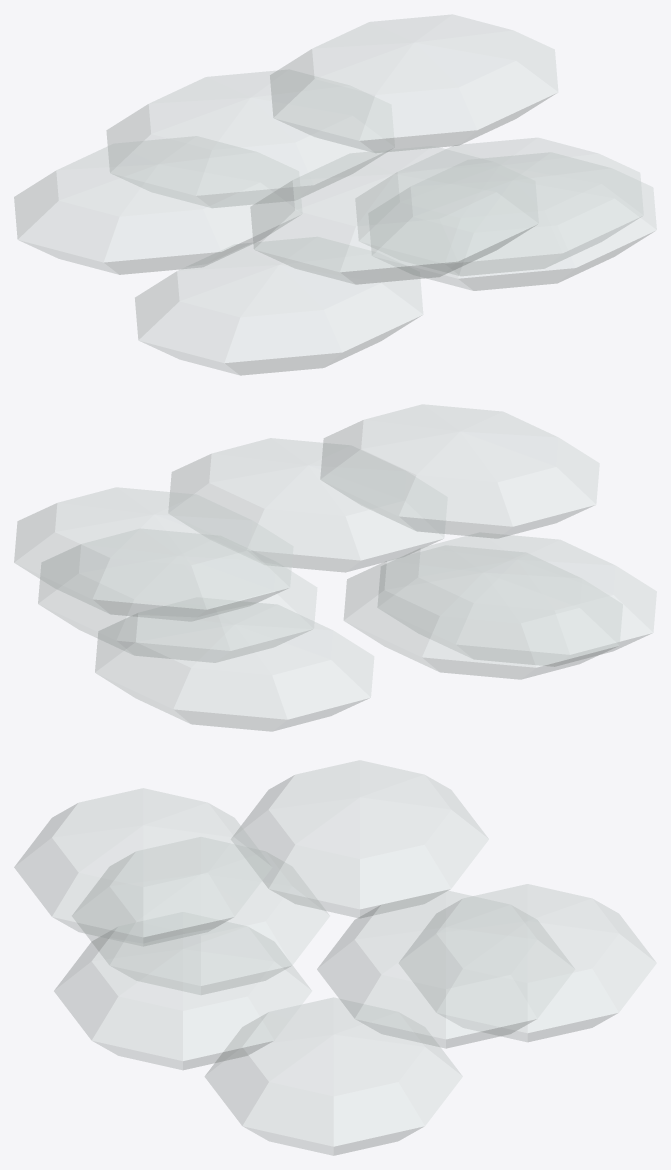
The model's file is f_fog_breather.glb.
3 views of the same model, one above another, from view 1: azimuth 30°, elevation 25°; view 2: azimuth 150°, elevation 25°; view 3: azimuth 270°, elevation 25° (orthographic). The views are drawn at different scales.
Visible parts, largest first — view 1: block_overlapping-water-vapor (×7); view 2: block_overlapping-water-vapor (×7); view 3: block_overlapping-water-vapor (×7).
Boxes of the visible parts, x1=… form: block_overlapping-water-vapor (×7): x1=14, y1=14, x2=656, y2=375; block_overlapping-water-vapor (×7): x1=14, y1=404, x2=656, y2=731; block_overlapping-water-vapor (×7): x1=14, y1=760, x2=656, y2=1155.
Size of the model in its own units: 0.8838 by 0.264 by 0.7906.
Materials: 1 (1 with a texture image).
